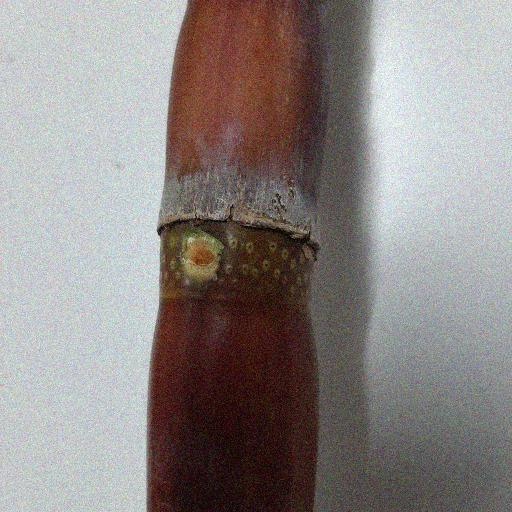Damage_Bud: (178, 231, 222, 280)
